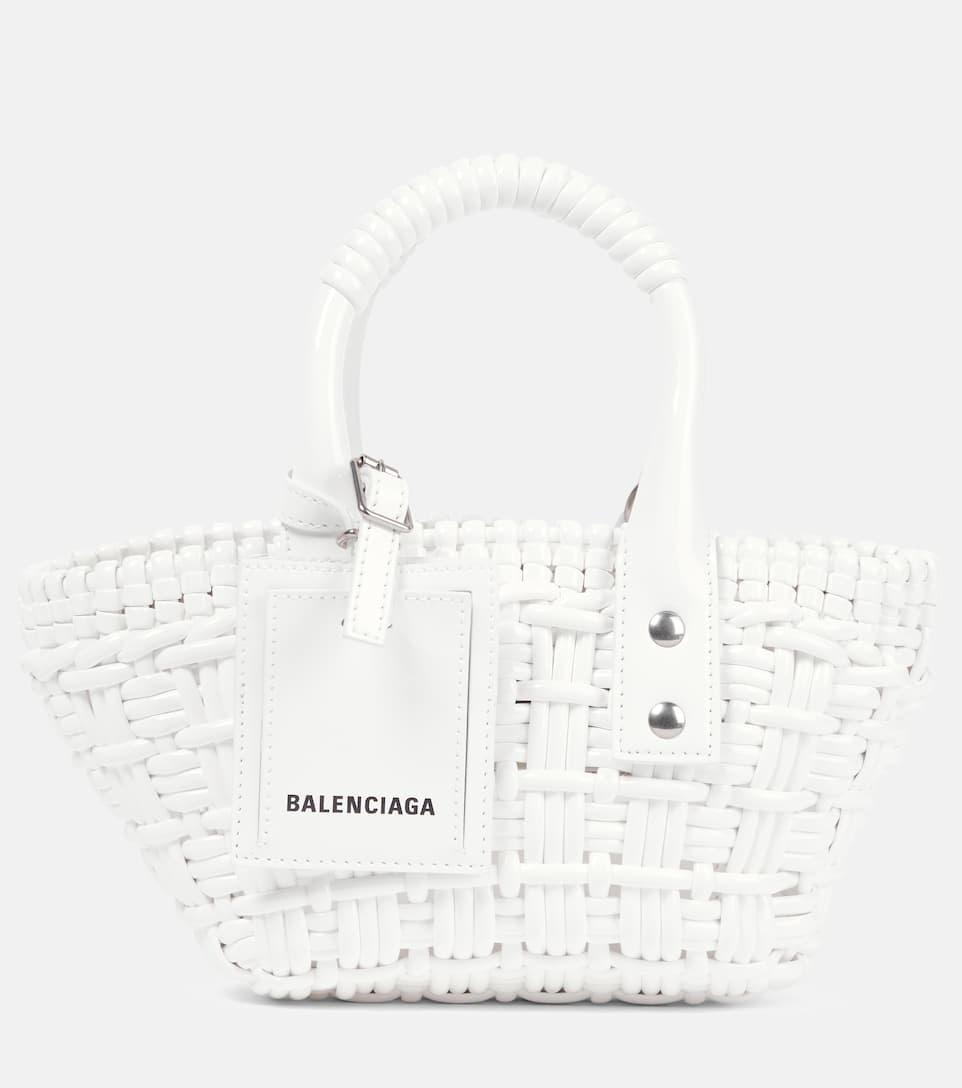BALENCIAGA: (287, 793, 435, 818)
